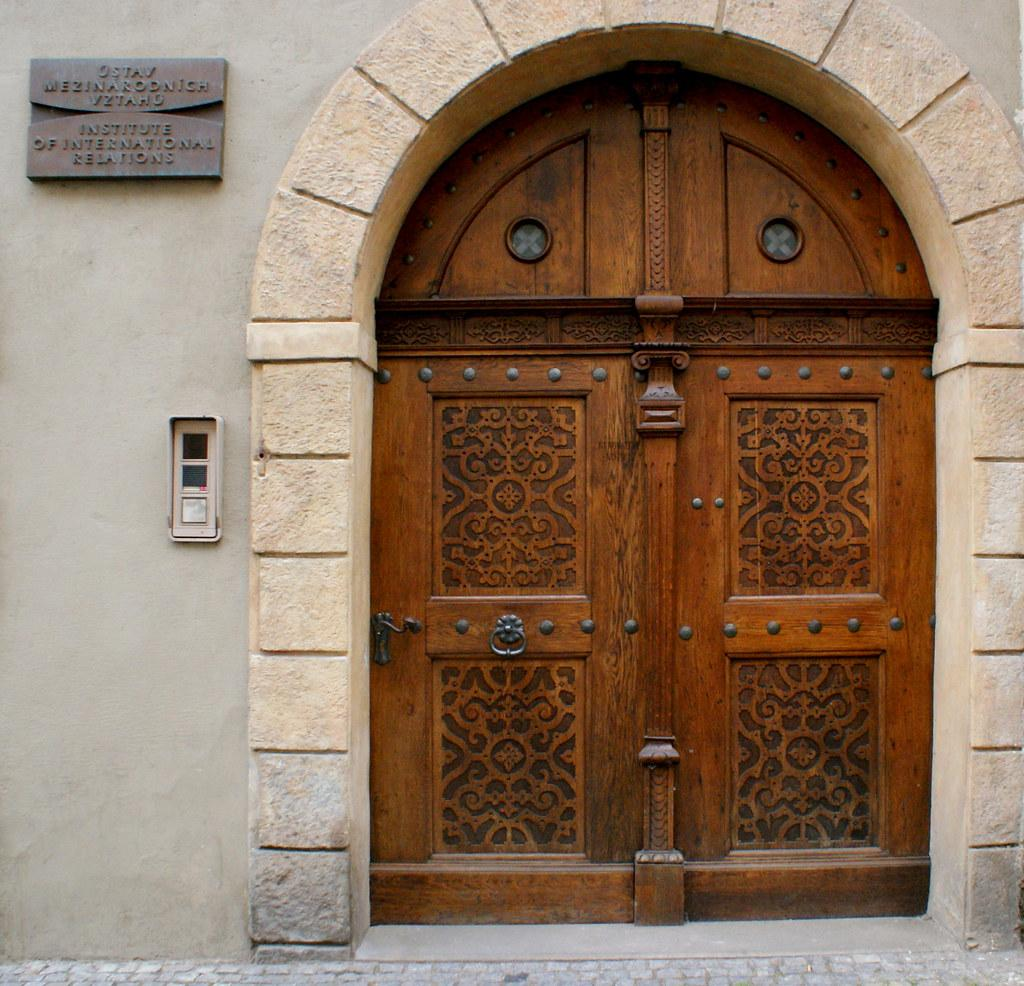door: (366, 62, 941, 926)
